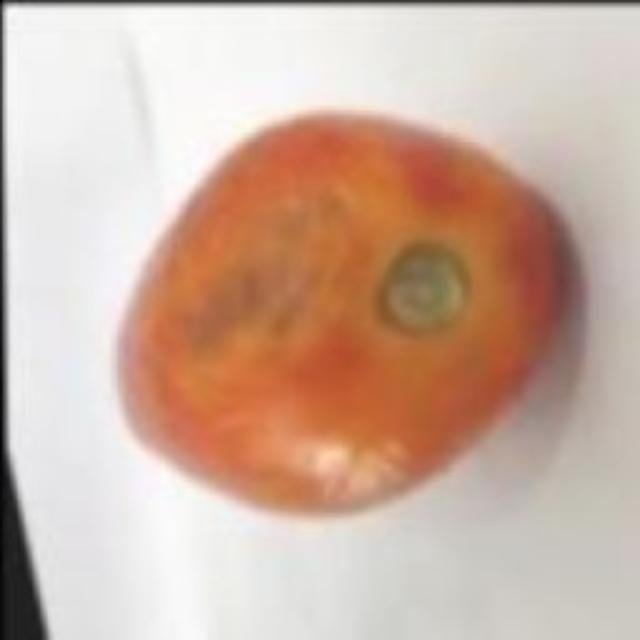defect: (111, 103, 577, 527)
